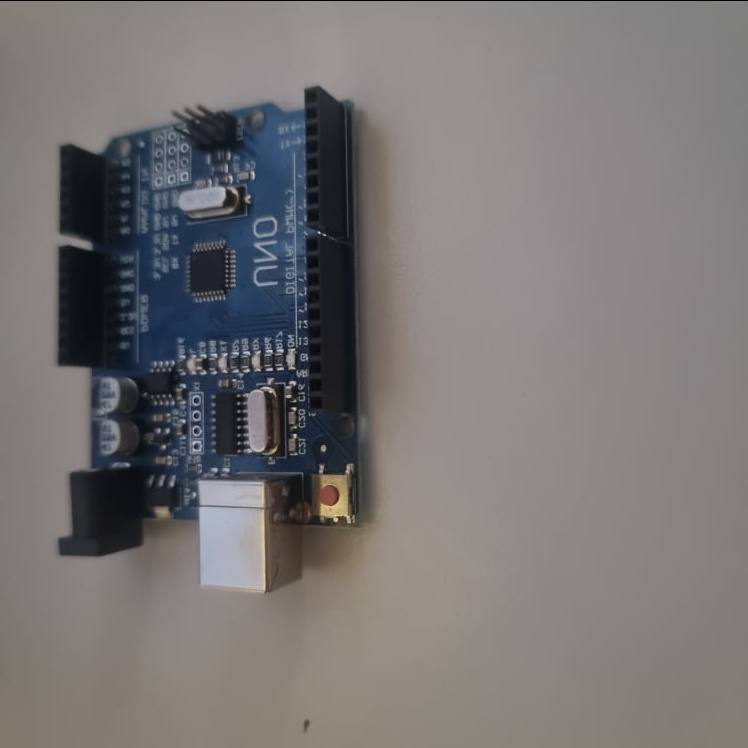UNO R3: (59, 84, 357, 595)
